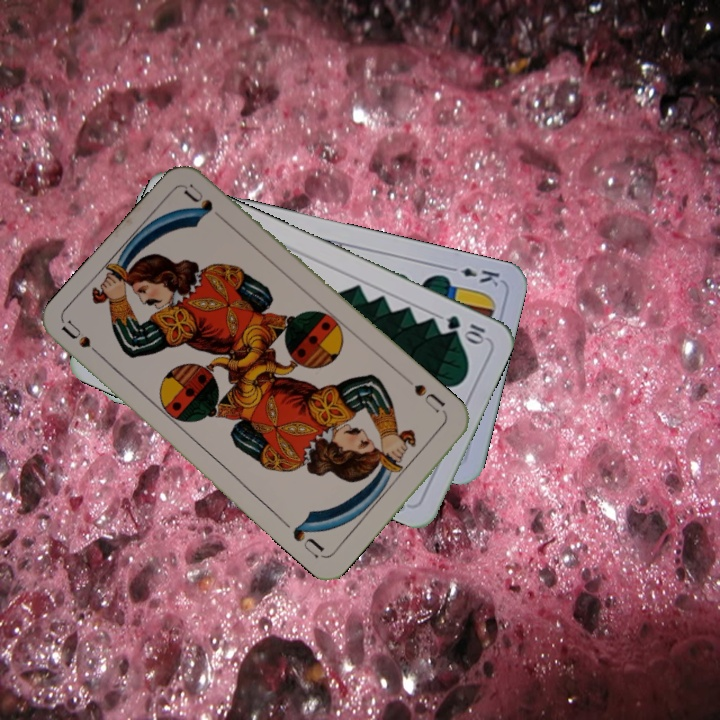EK: (444, 262, 502, 289)
G10: (442, 311, 490, 346)
SU: (58, 317, 110, 364), (402, 375, 450, 419)
